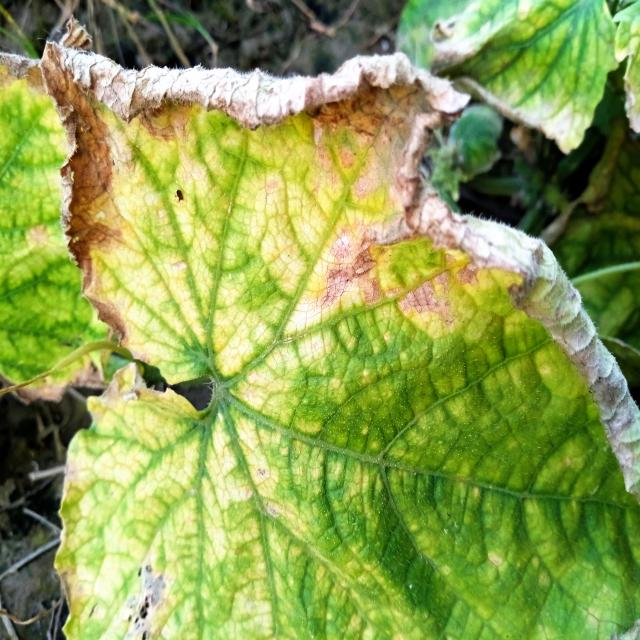Gummy-Stem-Blight: (36, 12, 640, 503)
